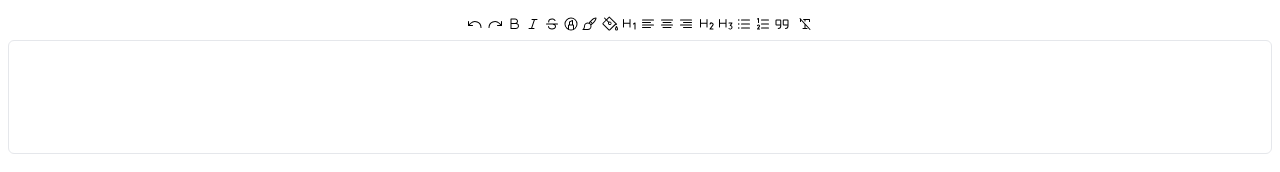
it: Editor edit mode › does not fail when typing without a content callback
Click the field at (640, 97), box [8, 40, 1272, 154]
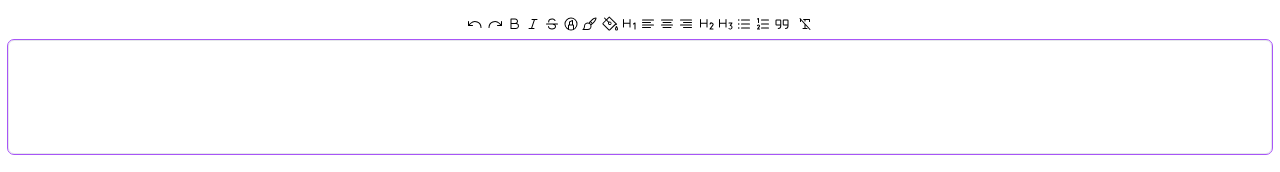
Type keys "Oi"
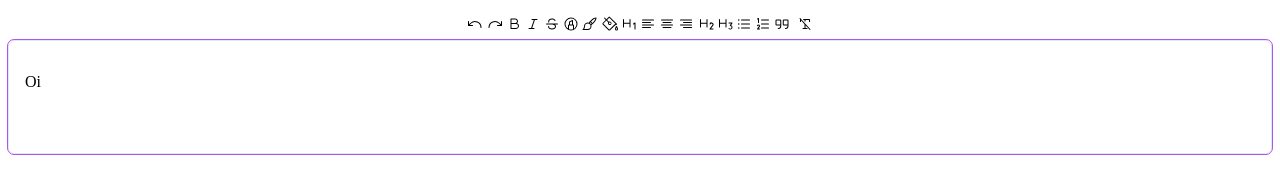
expect the field labelled "Oi" is shown: met
